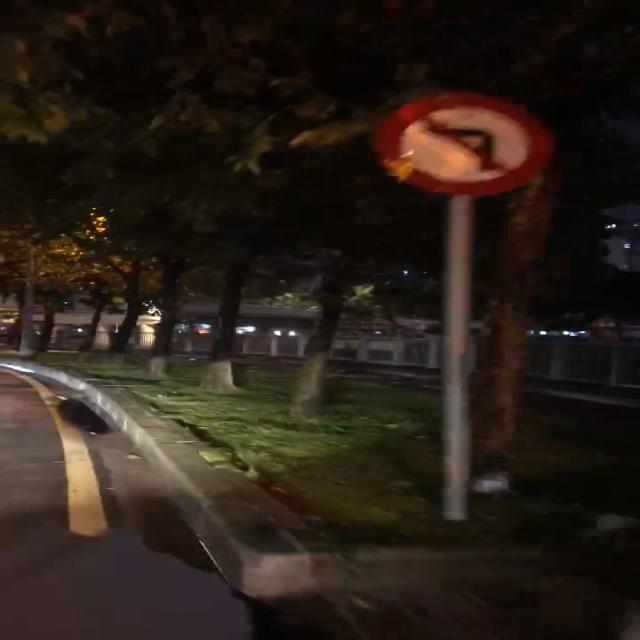Bien bao cam re trai: (379, 92, 576, 198)
